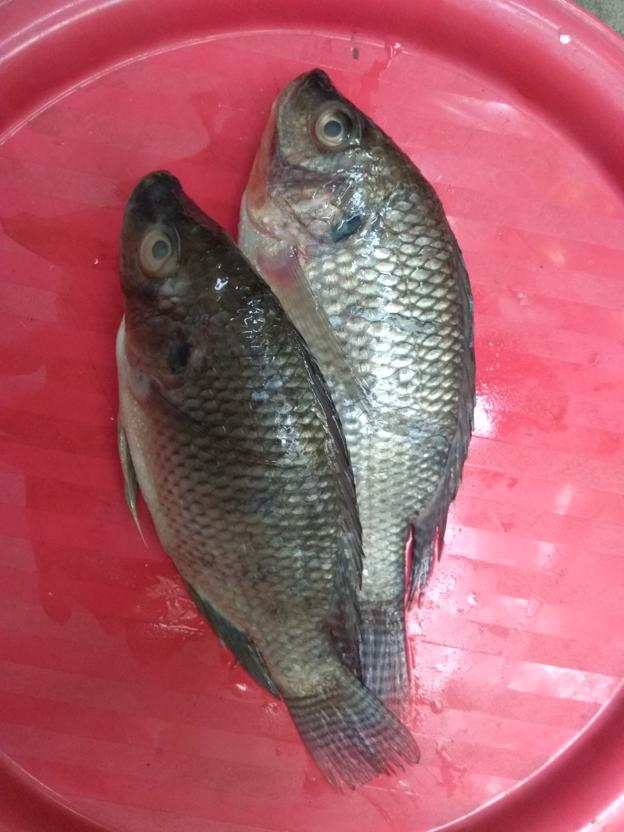Fish head: (240, 67, 429, 248), (116, 168, 242, 379)
Fish tail: (278, 669, 426, 797), (358, 589, 422, 730)
